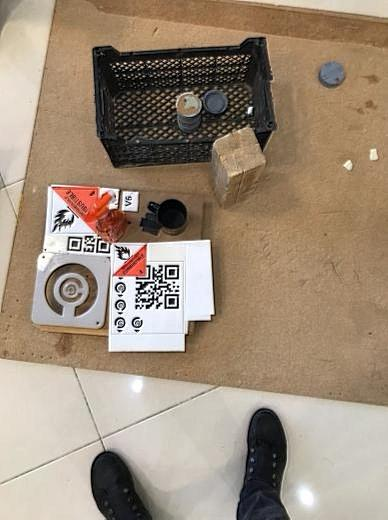spontaneously-combustible: (49, 185, 101, 236), (111, 243, 149, 279)
